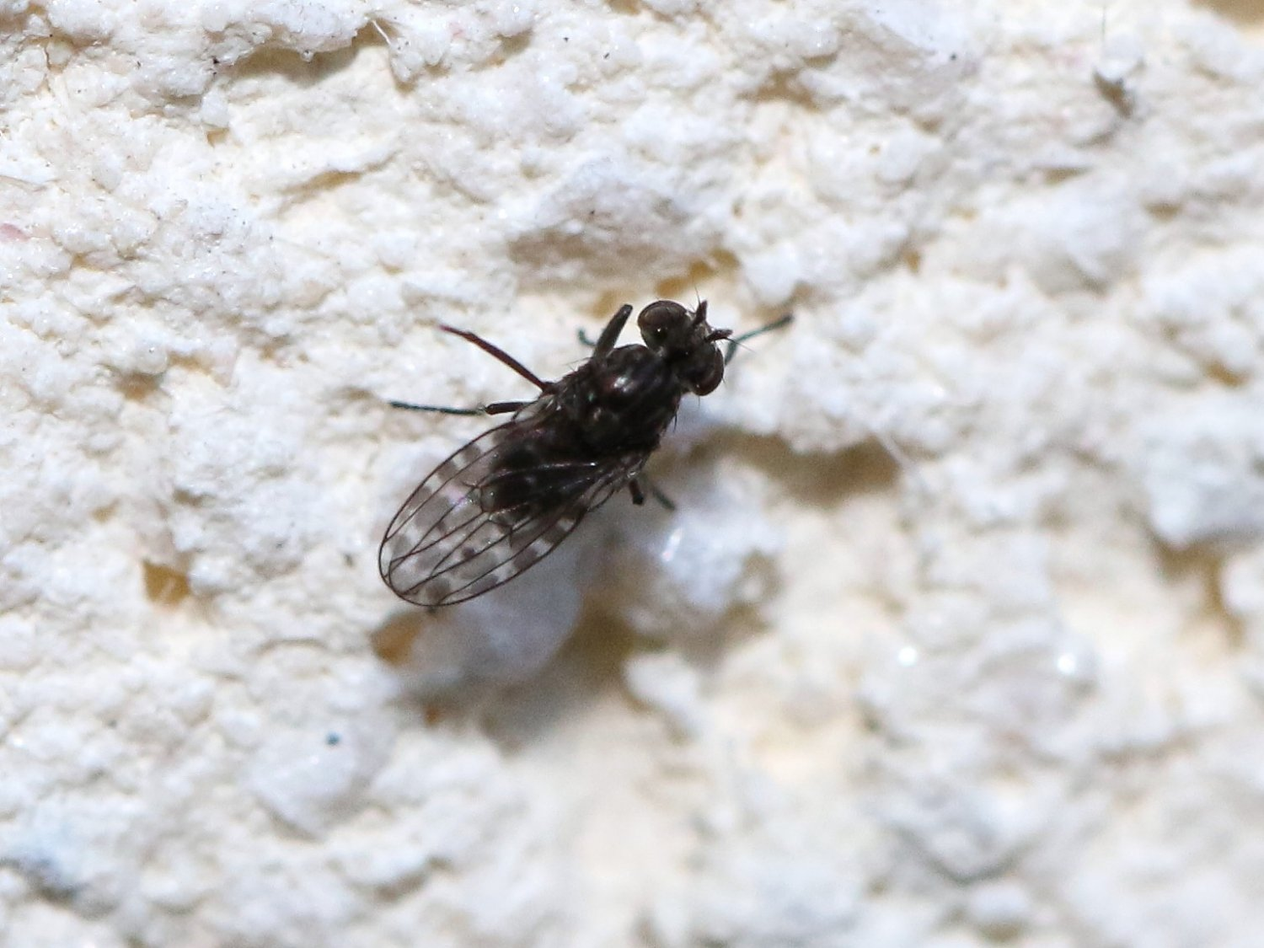Ephydridae: (373, 270, 779, 621)
